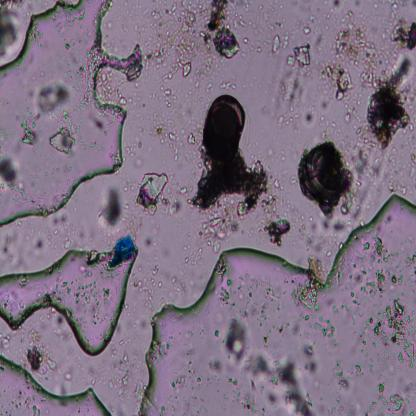Air bubble: (0, 0, 133, 229), (0, 248, 134, 360), (0, 352, 112, 416)
Background material: (188, 158, 272, 216), (365, 54, 416, 146), (359, 298, 416, 368), (159, 0, 203, 79), (353, 232, 409, 294), (273, 356, 317, 416), (197, 208, 233, 253), (106, 41, 144, 82), (334, 20, 368, 64), (93, 68, 129, 109), (318, 63, 356, 100), (100, 188, 130, 234), (136, 171, 170, 211), (289, 274, 322, 315), (260, 197, 288, 244), (351, 138, 380, 182), (356, 36, 381, 87), (226, 314, 249, 367), (35, 79, 69, 113), (296, 214, 324, 252), (0, 158, 27, 196), (155, 126, 181, 165), (46, 121, 78, 152), (247, 353, 279, 384), (338, 182, 366, 216), (281, 69, 308, 104), (131, 278, 157, 314), (0, 0, 17, 55), (390, 14, 416, 49), (214, 29, 243, 60), (194, 54, 216, 94), (53, 6, 86, 31), (204, 0, 228, 32), (329, 358, 351, 392), (282, 43, 313, 67), (15, 117, 40, 146), (239, 302, 267, 327), (76, 282, 101, 308), (240, 391, 266, 416), (147, 338, 170, 366), (312, 314, 335, 342), (154, 82, 178, 108), (306, 251, 326, 282), (143, 45, 166, 70), (39, 345, 58, 374), (270, 32, 292, 56), (387, 177, 410, 198), (228, 375, 244, 405), (27, 24, 45, 49), (385, 148, 400, 178), (4, 251, 27, 269), (325, 395, 344, 416), (40, 289, 61, 308), (319, 116, 335, 140), (84, 52, 104, 71), (26, 347, 41, 372), (389, 394, 406, 416), (248, 14, 266, 34), (132, 381, 147, 405), (72, 68, 90, 88), (304, 104, 318, 128), (275, 112, 296, 128), (200, 30, 215, 52), (103, 258, 118, 280), (244, 273, 262, 290), (343, 105, 360, 123), (288, 320, 304, 338), (172, 374, 188, 391), (210, 356, 225, 374), (117, 357, 131, 376), (86, 250, 102, 266), (264, 285, 278, 303), (231, 12, 246, 28), (217, 257, 227, 281), (219, 285, 230, 306), (407, 153, 416, 178), (186, 360, 197, 380), (0, 334, 11, 354), (302, 360, 320, 372), (27, 331, 42, 345), (329, 0, 343, 15), (268, 392, 281, 408), (63, 367, 75, 384), (265, 20, 285, 30), (218, 80, 236, 91), (378, 394, 389, 412), (387, 2, 401, 16), (303, 343, 315, 359), (354, 128, 370, 140), (233, 0, 252, 10), (76, 228, 88, 242), (80, 264, 92, 278), (53, 210, 63, 226), (193, 248, 203, 264), (170, 202, 183, 214), (31, 239, 44, 251), (272, 176, 284, 189), (404, 255, 416, 268), (148, 263, 159, 277), (315, 31, 324, 48), (186, 131, 196, 146), (176, 184, 189, 195), (53, 386, 67, 396), (305, 13, 319, 23), (237, 284, 245, 301), (101, 19, 113, 30), (277, 322, 288, 334), (3, 236, 11, 252), (221, 392, 228, 410), (96, 119, 106, 131), (404, 382, 414, 394), (145, 237, 158, 246), (116, 403, 125, 416), (52, 329, 65, 338), (250, 379, 258, 393), (279, 146, 286, 162), (133, 157, 144, 167), (18, 277, 28, 288), (125, 145, 134, 157), (44, 236, 53, 248), (63, 238, 72, 250), (354, 365, 363, 377), (384, 213, 393, 225), (369, 401, 377, 414), (181, 256, 191, 266), (184, 396, 194, 406), (32, 406, 42, 416), (56, 316, 65, 327), (194, 377, 203, 388), (359, 217, 367, 229), (24, 395, 31, 408), (91, 314, 100, 324), (263, 334, 269, 349), (118, 388, 127, 398), (334, 222, 345, 230), (324, 219, 332, 230), (303, 27, 311, 38), (214, 328, 222, 339), (172, 286, 181, 295), (346, 8, 354, 18), (347, 370, 354, 381), (47, 308, 54, 319), (122, 376, 129, 387), (138, 320, 147, 328), (331, 306, 339, 315), (111, 344, 117, 356), (103, 288, 111, 297), (160, 404, 166, 416), (378, 383, 384, 395), (326, 248, 333, 258), (268, 148, 275, 158), (124, 338, 132, 346), (226, 278, 234, 286), (198, 328, 207, 335), (64, 41, 70, 51), (206, 375, 212, 385), (369, 366, 375, 376), (157, 281, 164, 289), (108, 382, 116, 389), (303, 314, 310, 322), (17, 390, 24, 398), (15, 403, 23, 410), (377, 411, 388, 416), (376, 224, 382, 233), (405, 395, 410, 405), (351, 315, 356, 325), (90, 380, 97, 387), (172, 277, 178, 285), (62, 280, 68, 288), (258, 3, 264, 11), (115, 376, 121, 384), (345, 304, 351, 312), (141, 101, 147, 109), (118, 338, 124, 346), (134, 81, 140, 88), (66, 288, 72, 295), (199, 397, 206, 403), (255, 46, 262, 52), (277, 4, 284, 10), (242, 37, 249, 43), (16, 221, 24, 226), (248, 290, 253, 298), (348, 411, 356, 416), (0, 366, 6, 372), (52, 230, 59, 235), (411, 289, 416, 296), (409, 411, 416, 416), (125, 304, 130, 311), (317, 396, 324, 401), (354, 233, 359, 240), (284, 277, 288, 285), (172, 404, 176, 412), (348, 275, 354, 280), (344, 285, 349, 291), (384, 376, 388, 383), (137, 267, 143, 271), (409, 237, 413, 243), (364, 410, 368, 416), (216, 388, 220, 394), (350, 292, 354, 298), (190, 331, 194, 337), (341, 304, 344, 310), (413, 268, 416, 274), (350, 404, 354, 408), (352, 300, 356, 304), (276, 307, 280, 311), (182, 284, 186, 288), (380, 368, 384, 372), (404, 411, 407, 416), (268, 330, 272, 333), (358, 302, 361, 306), (401, 293, 404, 297), (390, 230, 394, 233), (356, 295, 358, 299), (378, 378, 380, 381), (354, 265, 356, 268), (415, 282, 416, 284)
Diatom: (303, 142, 352, 209), (204, 95, 246, 160)
Fragment: (114, 234, 136, 262)
